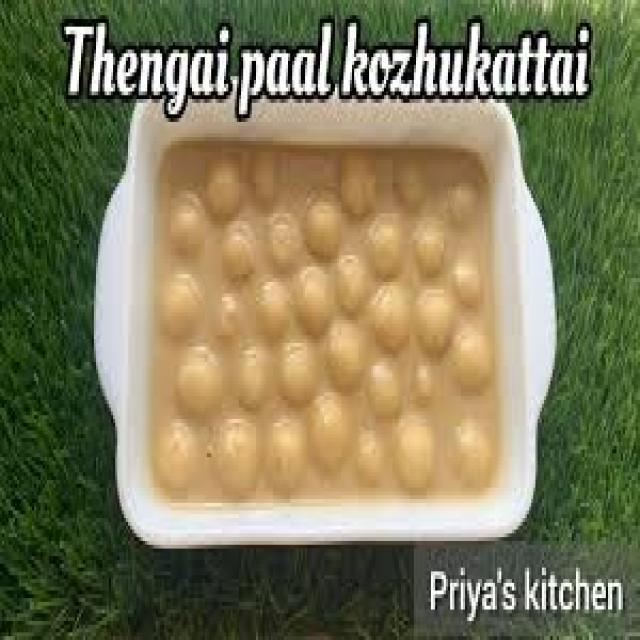paal kolukattai: (139, 129, 507, 520)
